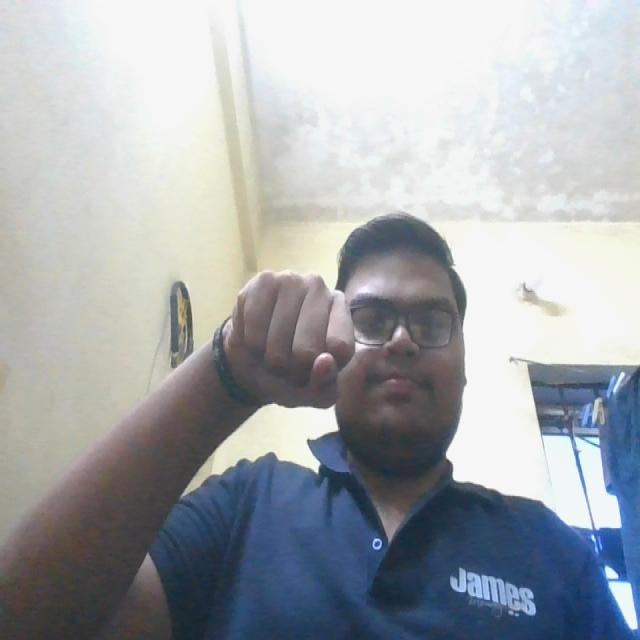Yes: (191, 224, 376, 450)
